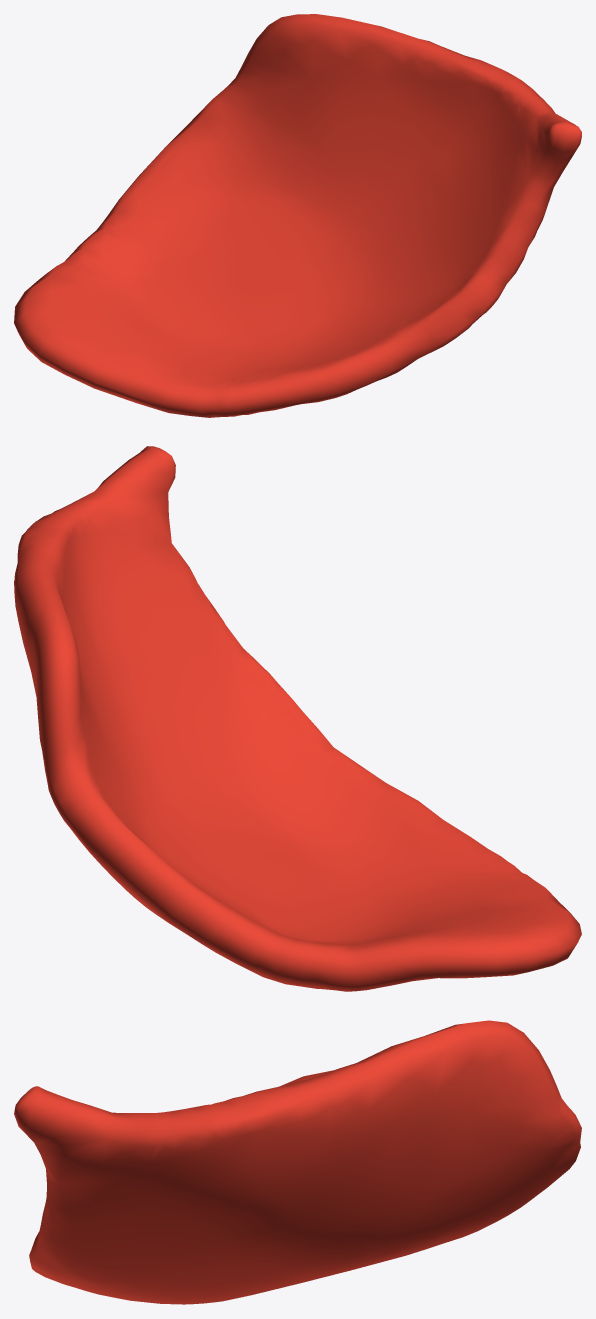
Rendered from Coracobrachialis_coracoid_process_left.glb.
The picture shows the model from 3 angles, top to bottom: view 1: azimuth 30°, elevation 25°; view 2: azimuth 150°, elevation 25°; view 3: azimuth 270°, elevation 25°; orthographic projection. The views are drawn at different scales.
Visible parts, largest first — view 1: Coracobrachialis_muscle_on_coracoid_process_of_scapula.l_Gen; view 2: Coracobrachialis_muscle_on_coracoid_process_of_scapula.l_Gen; view 3: Coracobrachialis_muscle_on_coracoid_process_of_scapula.l_Gen.
Boxes of the visible parts, box(x1,y1,x2,y2) form: Coracobrachialis_muscle_on_coracoid_process_of_scapula.l_Gen: box(14, 14, 581, 417); Coracobrachialis_muscle_on_coracoid_process_of_scapula.l_Gen: box(14, 446, 581, 991); Coracobrachialis_muscle_on_coracoid_process_of_scapula.l_Gen: box(14, 1020, 581, 1304).
Size of the model in its own units: 0.00746 by 0.00416 by 0.00607.
